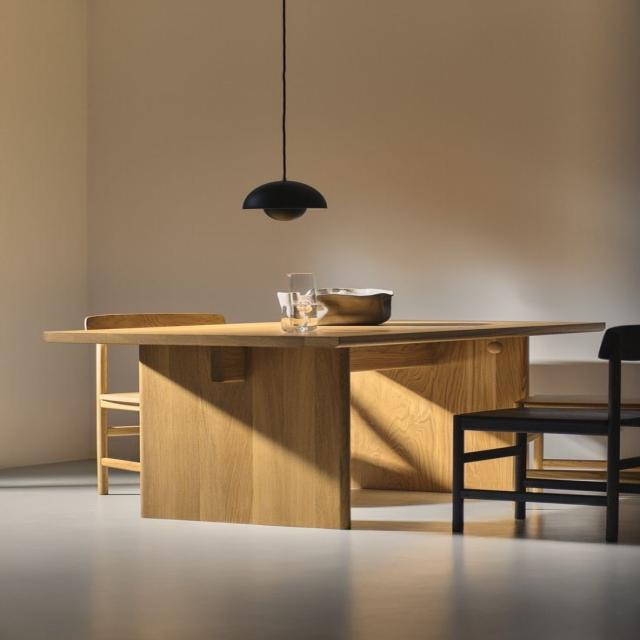table: (31, 290, 621, 548)
